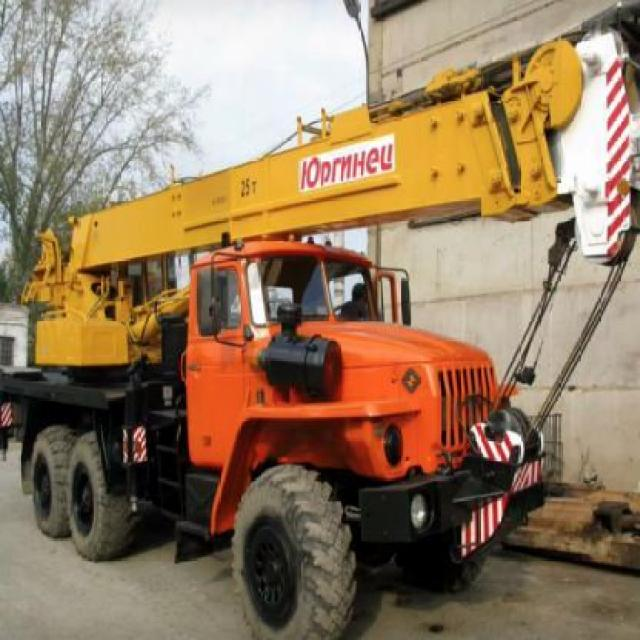Mobile Crane: (23, 27, 638, 640)
